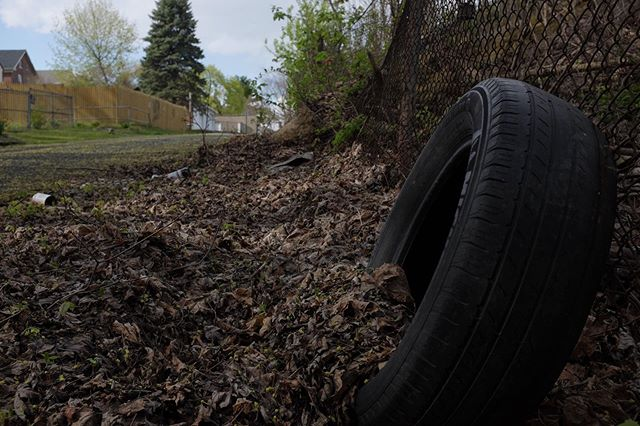tree: (268, 1, 358, 118), (138, 1, 218, 117), (70, 1, 144, 85)
vegetation: (1, 133, 374, 426)
